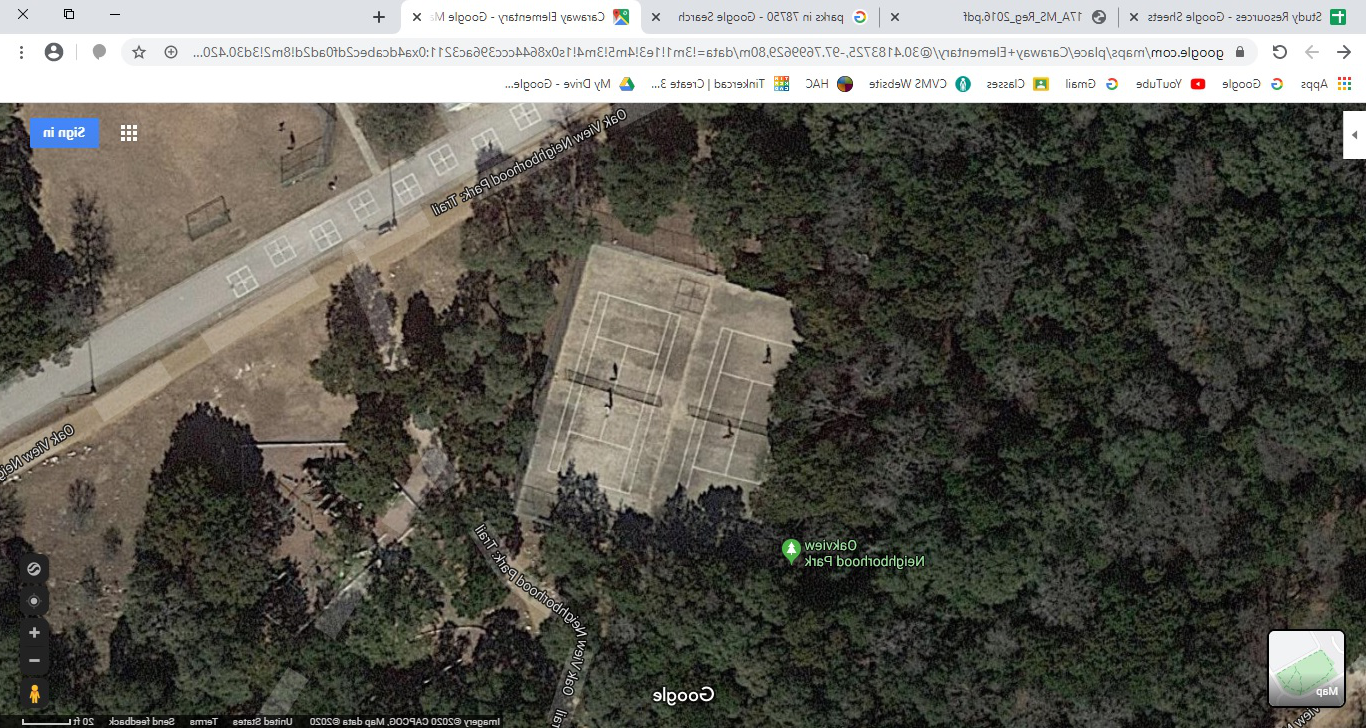tennis: (538, 249, 661, 540)
